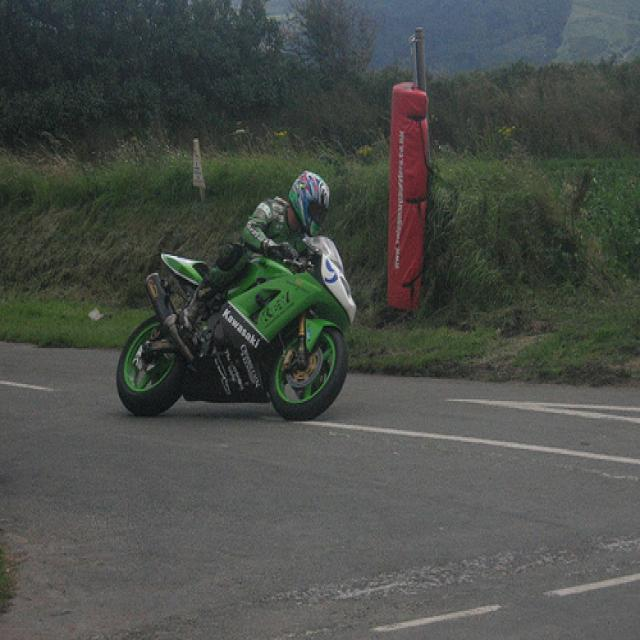motorcycle: (110, 227, 362, 425)
